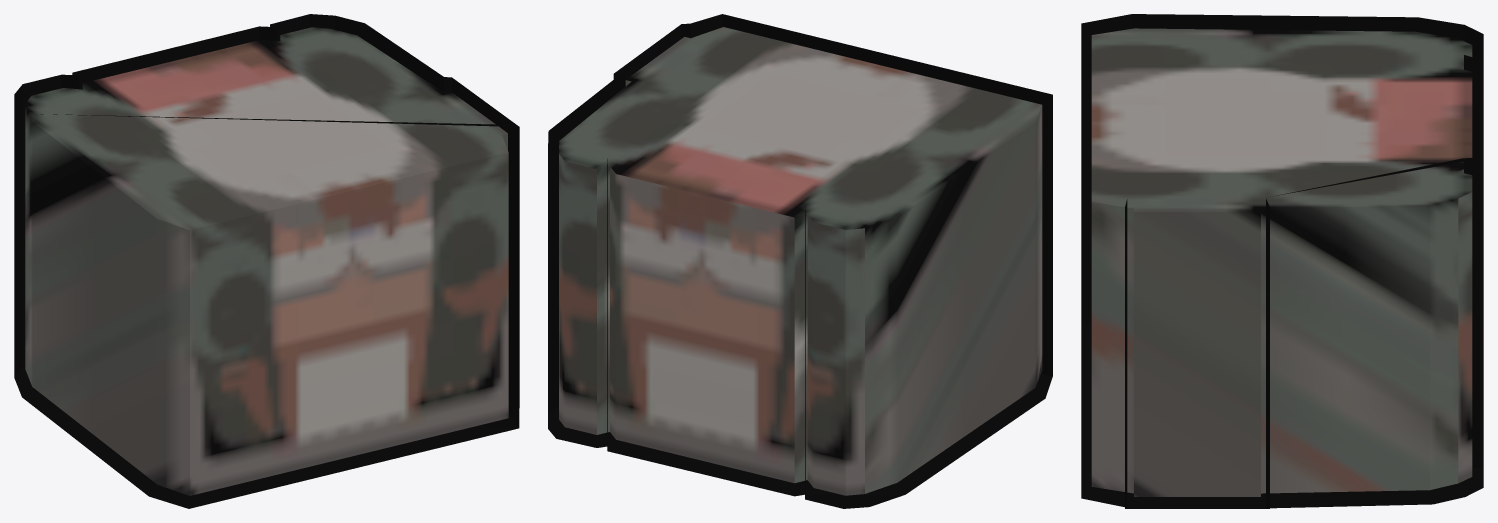
Rendered from Building_AncientRustedEngineBlock_Things_Building_Ruins_RustedEngineBlock_RustedEngineBlockB.glb.
3 renders of one model, left to right at view 1: azimuth 30°, elevation 25°; view 2: azimuth 150°, elevation 25°; view 3: azimuth 270°, elevation 25°, orthographic. The views are drawn at different scales.
Visible parts, largest first — view 1: Body, Outline; view 2: Body, Outline; view 3: Body, Outline.
Part boxes in pixels (x1=…): Body: x1=25, y1=27, x2=508, y2=495; Outline: x1=14, y1=14, x2=519, y2=508; Body: x1=559, y1=27, x2=1042, y2=495; Outline: x1=548, y1=14, x2=1052, y2=508; Body: x1=1091, y1=28, x2=1472, y2=496; Outline: x1=1081, y1=14, x2=1483, y2=508.
Size of the model in its own units: 0.9004 by 0.6804 by 0.7965.
2 materials, 1 textured.
